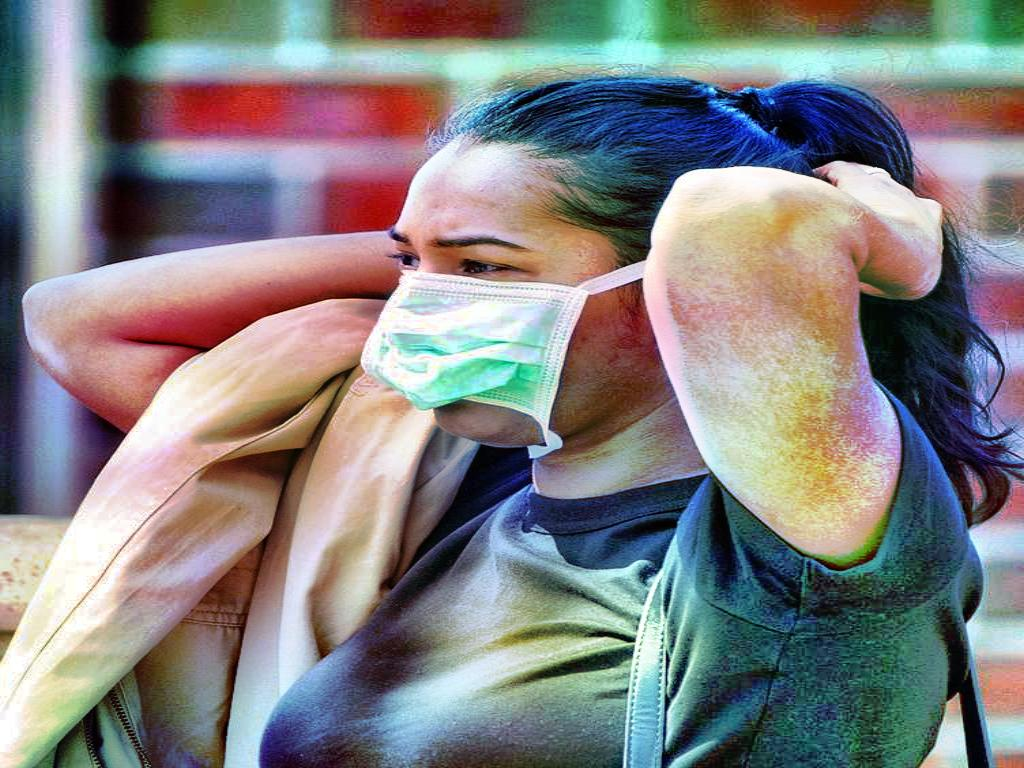mask_weared_incorrect: (354, 75, 810, 465)
